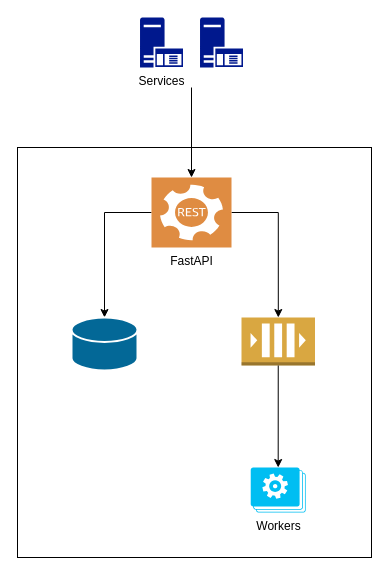
This 389x575 diagram has some shape labels left out. Each missing label, with the centre of its shape:
"RabbitMQ" goes at point 277,341.
"SQLite" goes at point 104,343.
